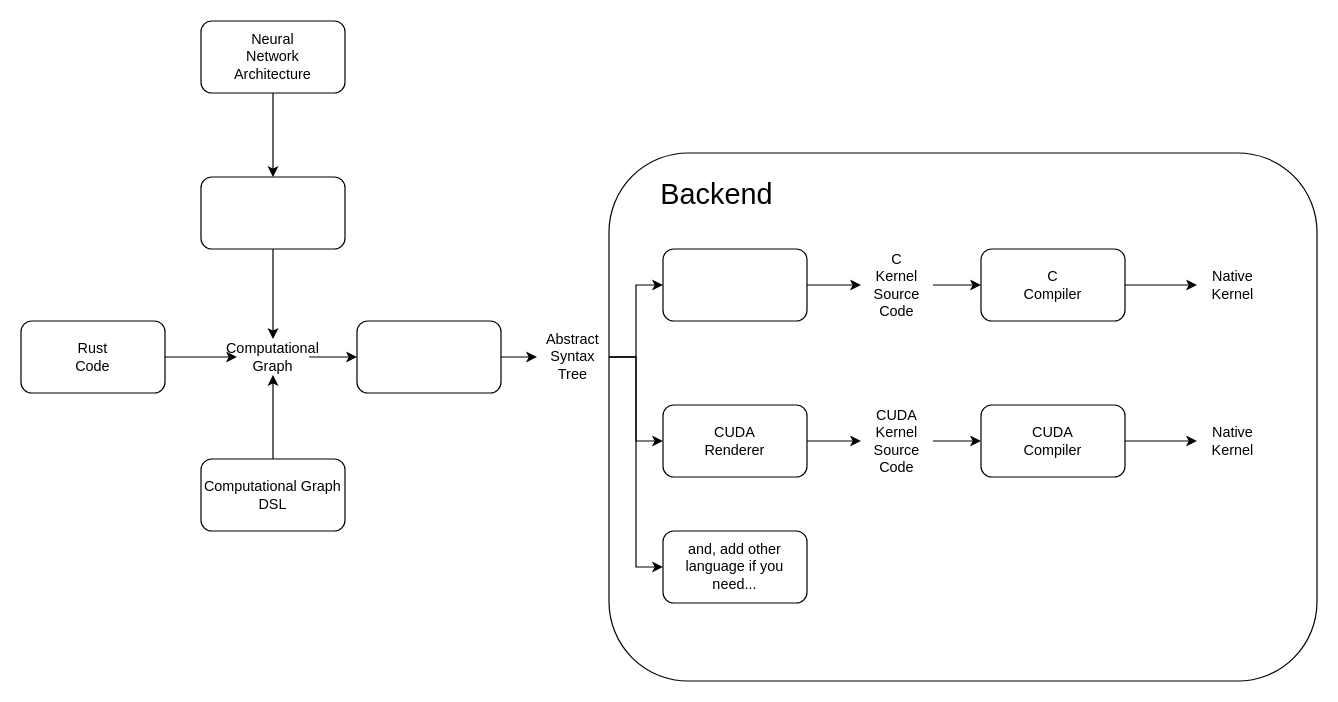
This 1338x702 diagram has some shape labels left out. Each missing label, with the centre of its shape:
"C Renderer" goes at (x=734, y=284).
"Lowerer" goes at (x=428, y=356).
"Tensor / Autograd Frontend" goes at (x=272, y=212).
